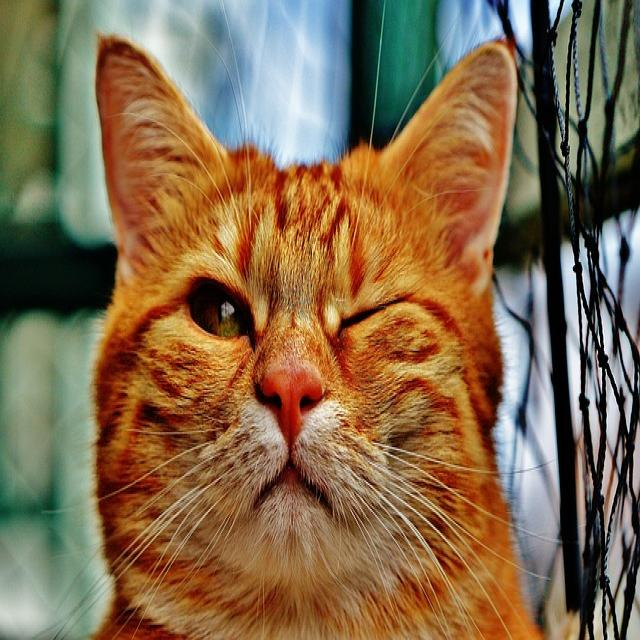animal: (94, 39, 544, 640)
